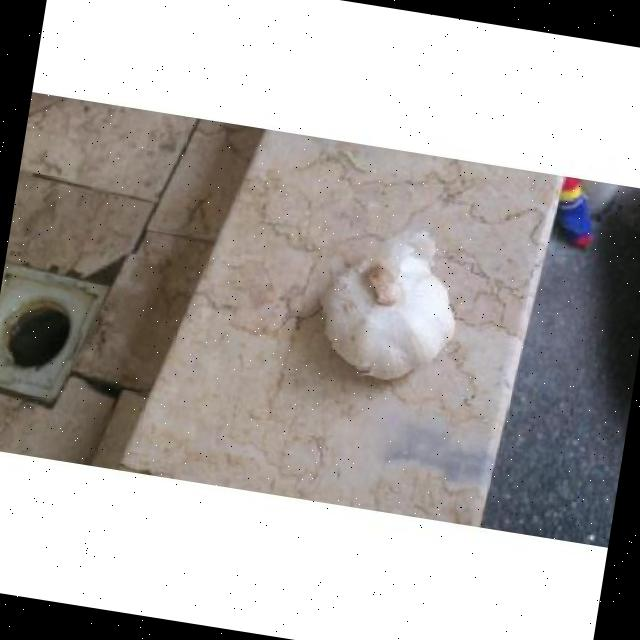garlic: (323, 230, 455, 379)
